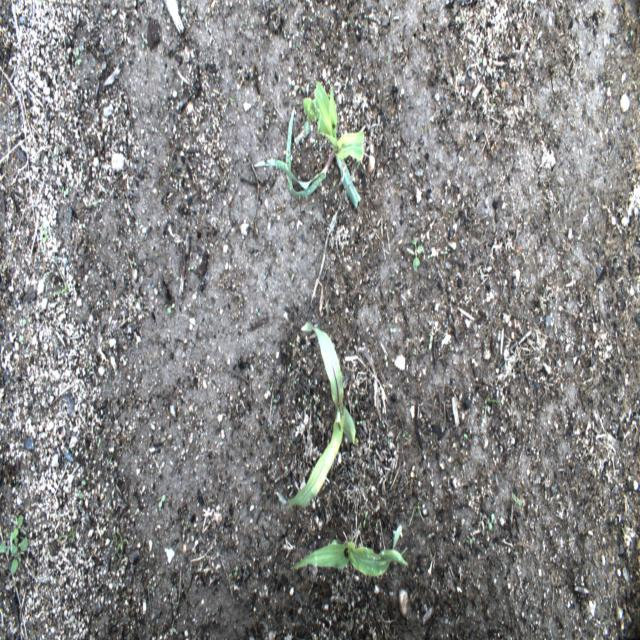crop: (276, 321, 356, 509), (254, 80, 364, 212), (288, 521, 406, 582)
weed: (1, 509, 28, 578), (411, 231, 425, 276), (15, 311, 27, 344), (76, 478, 90, 501), (487, 511, 501, 533), (72, 46, 83, 65), (39, 222, 49, 241), (466, 534, 476, 548)
